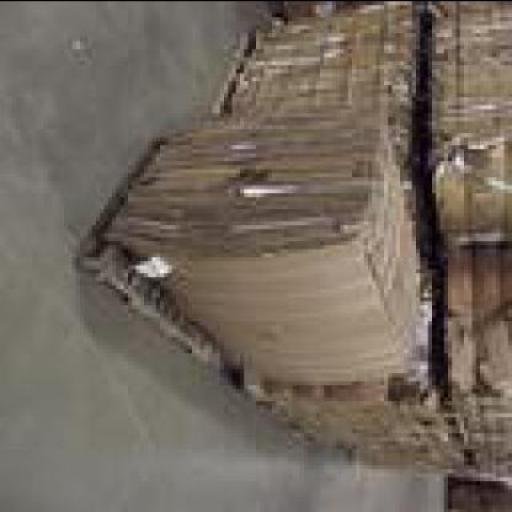cardboard: (116, 124, 428, 384), (228, 4, 432, 232), (128, 236, 409, 384), (276, 276, 464, 472), (428, 4, 511, 245), (444, 248, 511, 482)
